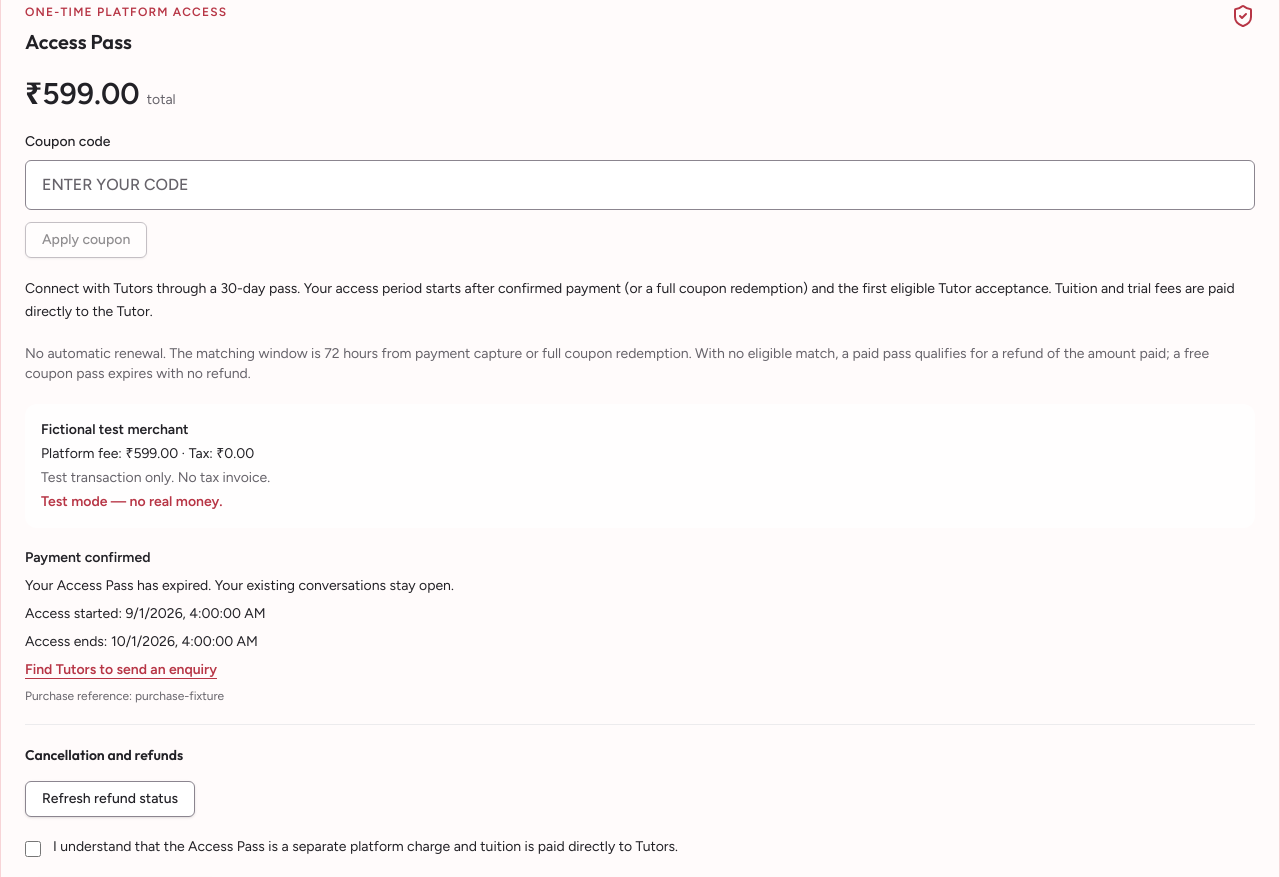
Test: offers explicit repurchase for an expired activated pass only after choosing an eligible offer and acknowledging terms
Click the checkbox.
click(33, 848)  # box [25,840,41,856]
(page scrolled)
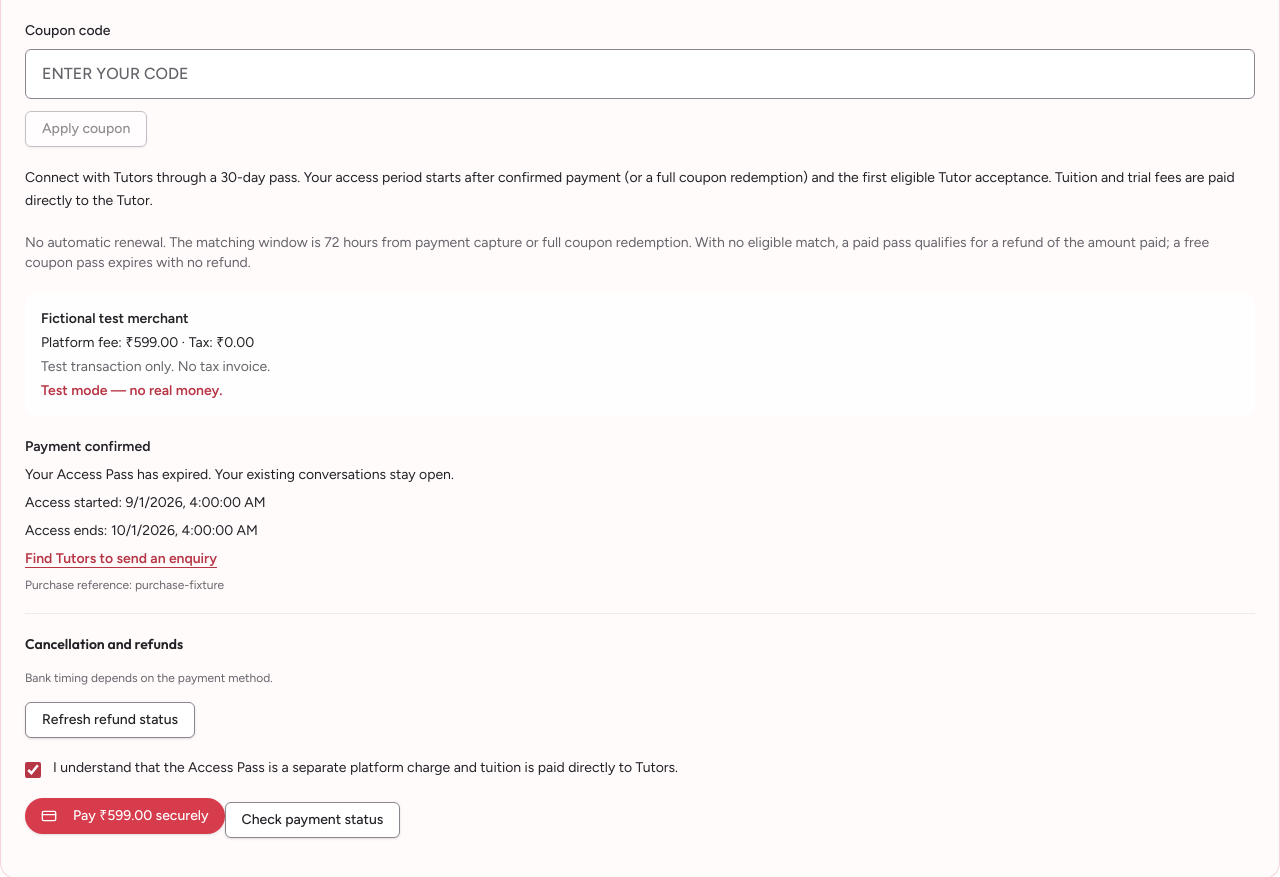
expect the button "Pay ₹599.00 securely" is enabled: met, box [25,798,225,834]
